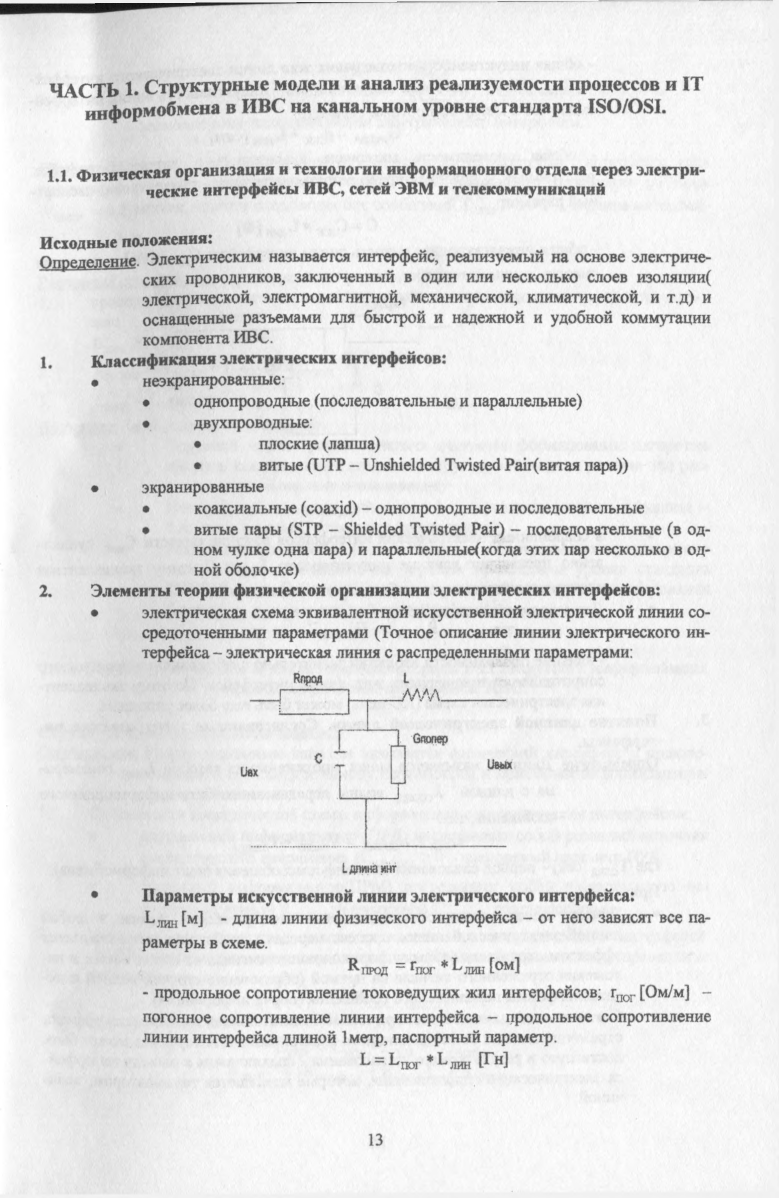L: (356, 1048, 373, 1072)
L.лин: (448, 954, 485, 978), (438, 1050, 473, 1074)
L.пог: (386, 1051, 422, 1073)
R.прод: (343, 950, 393, 980)
r.пог: (407, 957, 438, 977)
